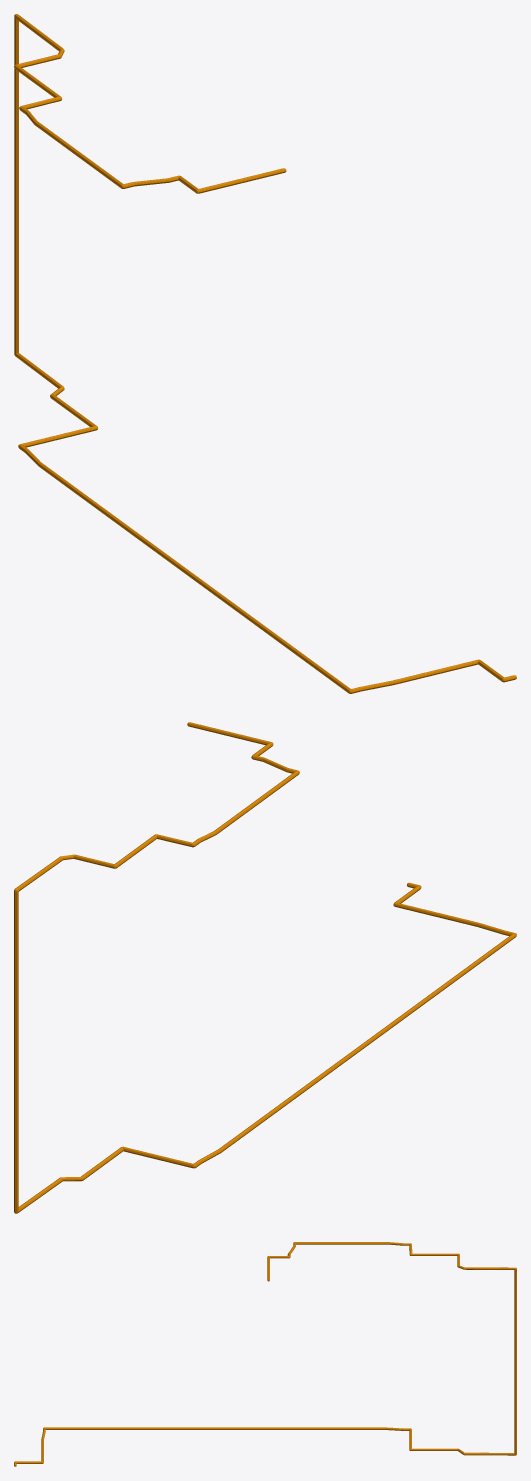
The picture shows the model from 3 angles, top to bottom: view 1: azimuth 30°, elevation 25°; view 2: azimuth 150°, elevation 25°; view 3: azimuth 270°, elevation 25°; orthographic projection. The views are drawn at different scales.
Size of the model in its own units: 661 by 1520 by 3687.
